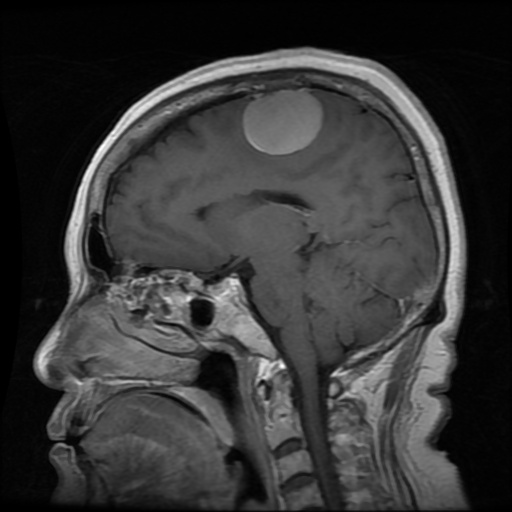meningioma: (244, 88, 322, 153)
